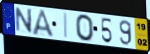5: (101, 17, 114, 44)
9: (118, 19, 132, 46)
A: (31, 8, 56, 39)
I: (64, 12, 69, 40)
N: (15, 7, 34, 35)
O: (75, 14, 95, 43)
